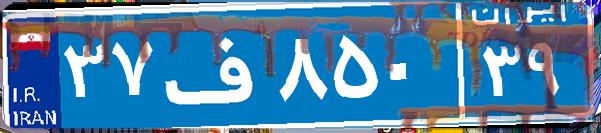0: (385, 28, 445, 110)
3: (57, 26, 110, 107), (475, 38, 525, 113)
5: (330, 28, 385, 110)
7: (110, 28, 158, 105)
8: (273, 28, 330, 110)
9: (525, 38, 570, 115)
ف: (158, 15, 273, 115)
